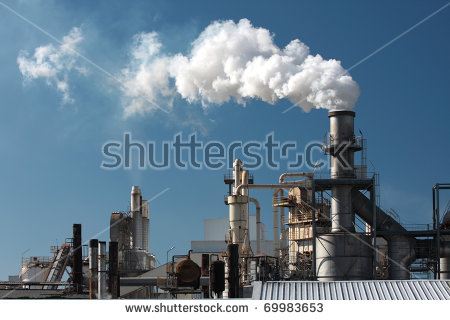dust: (175, 21, 362, 121)
